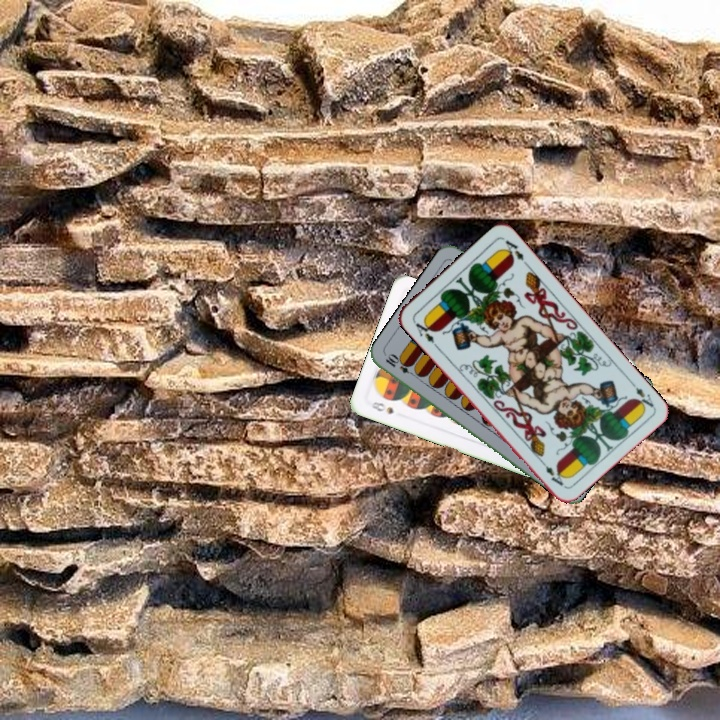E10: (381, 351, 419, 379)
EA: (409, 316, 440, 350), (626, 377, 656, 412)
S8: (366, 397, 396, 417)
